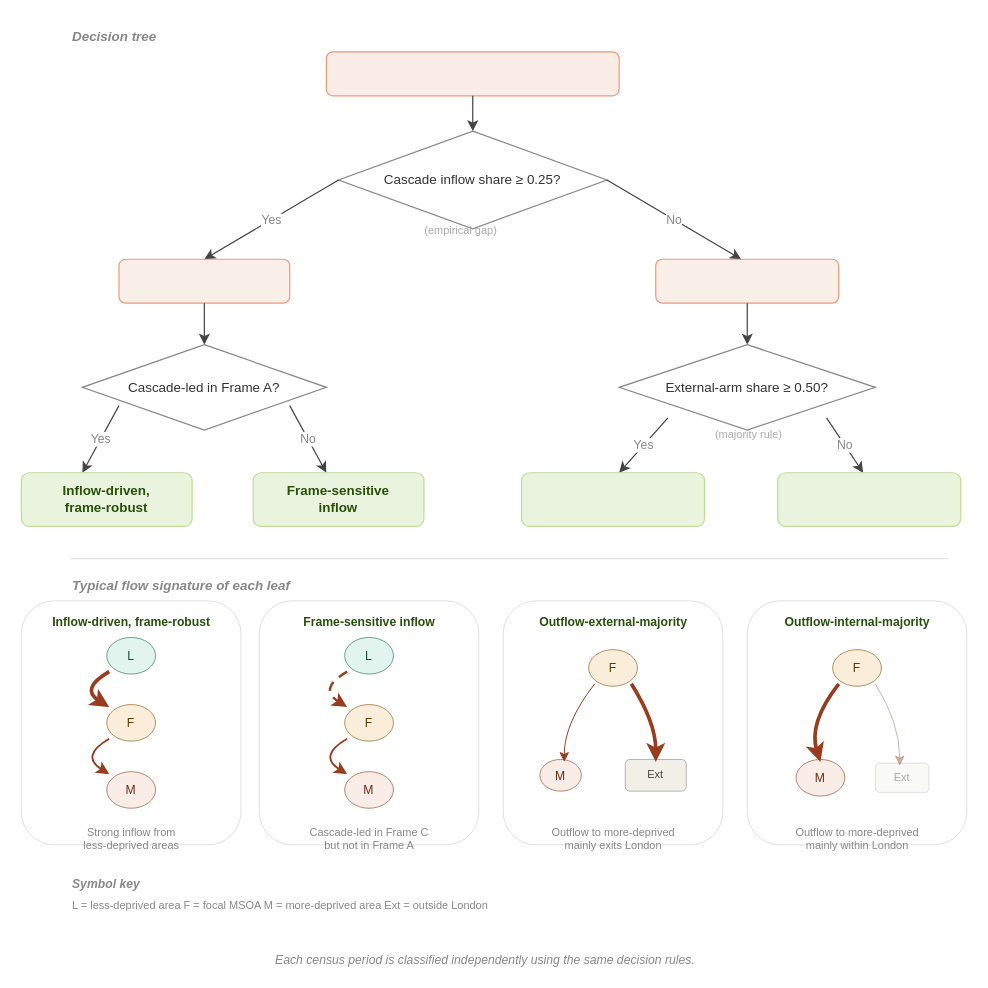
This 988x988 diagram has some shape labels left out. The centre of each missing label's shape, as x and y in pixels:
Frame C cascade-led MSOAs: point 472,73
Inflow-led: point 204,280
Outflow-dominated: point 747,280
Outflow-external- majority: point 612,499
Outflow-internal- majority: point 869,499
— Cascade direction (red) --- Dashed = frame-dependent: point 314,918
